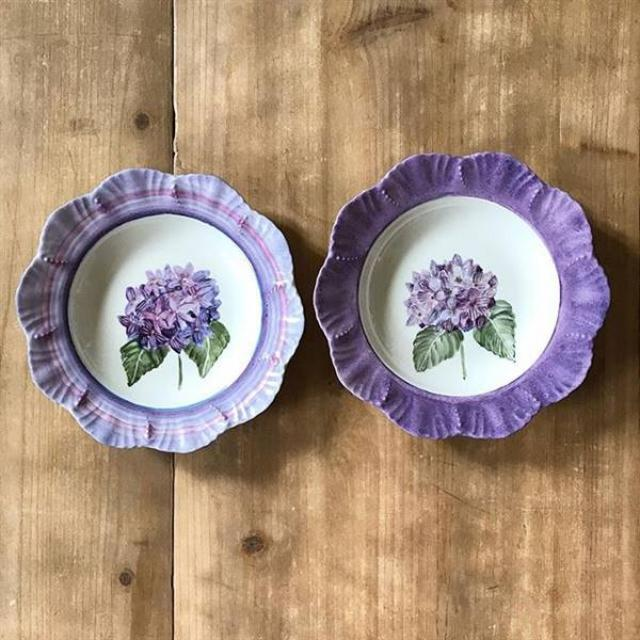non-organic waste: (322, 141, 604, 448), (33, 169, 303, 467)
